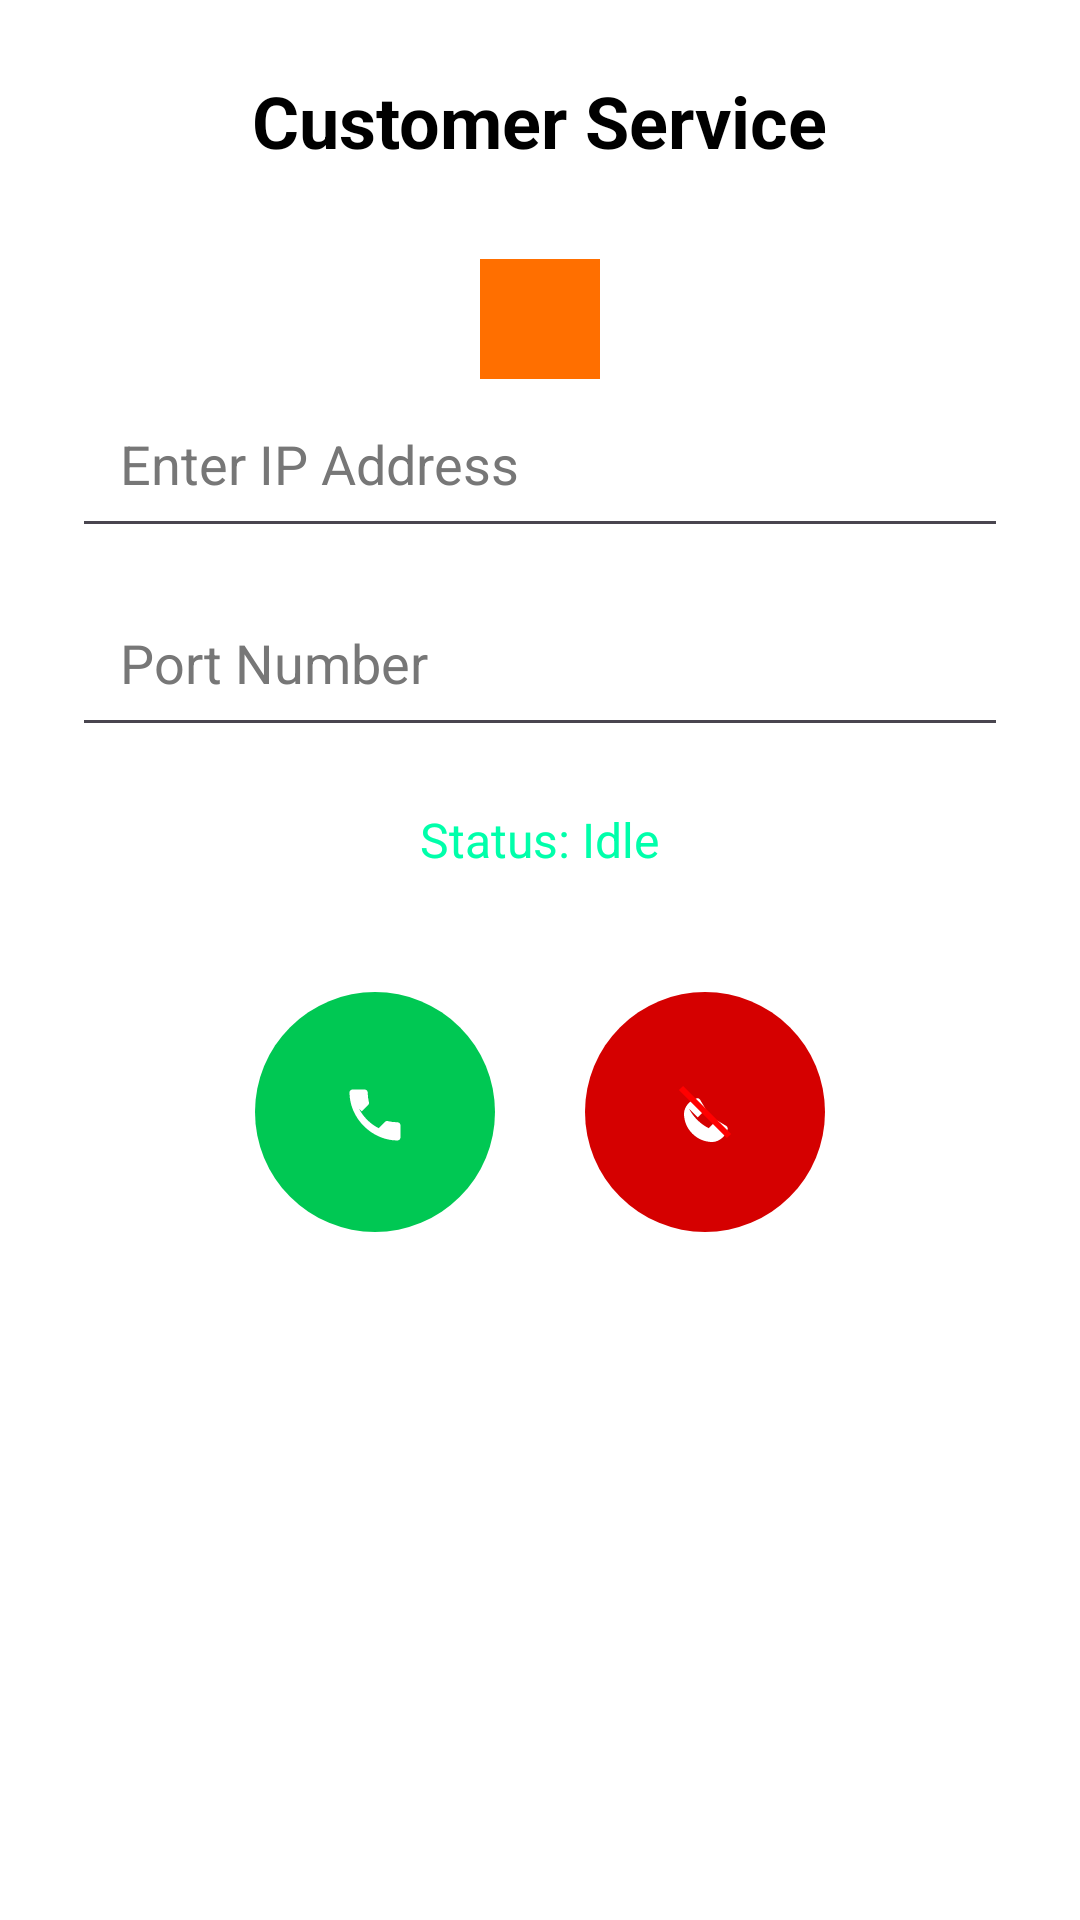

Screen size 1080*1920. Icon name, then its center in pixels as (x,y):
Call: (375,1112)
End Call: (705,1112)
